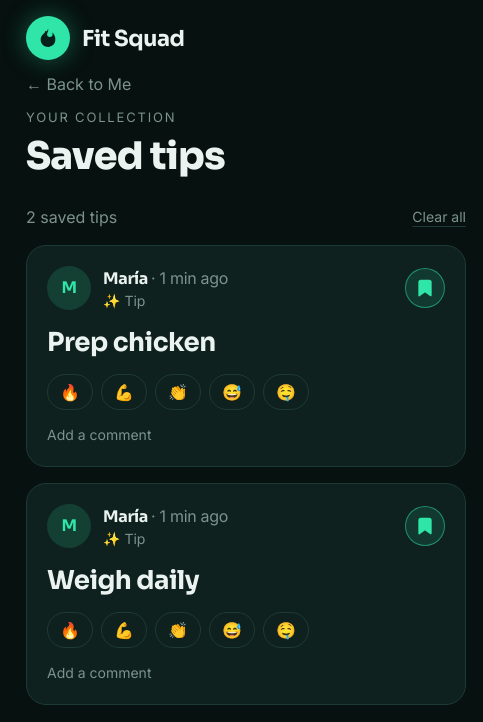
Test case: with saved posts › removes a card the moment it is unsaved
Expected: the heading "Prep chicken" is shown, [47,322,216,362]
Click the button named "unsave prep chicken" at (425, 288), box [405,268,445,308]
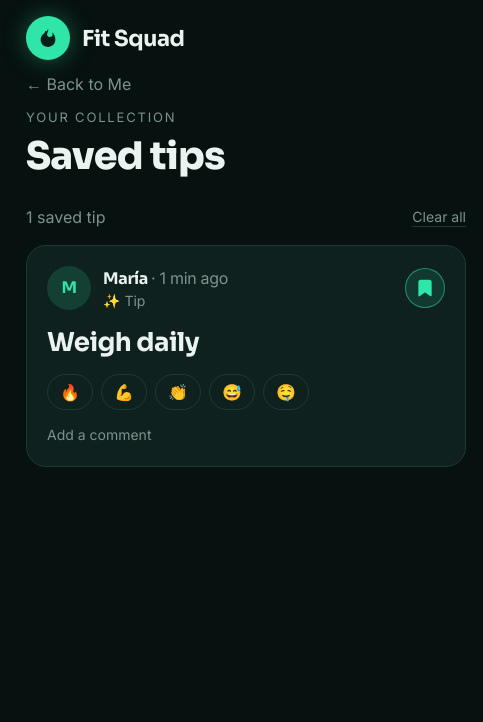
Expected: the heading "Weigh daily" is shown, [47,322,199,362]
Now the heading "Prep chicken" is gone
